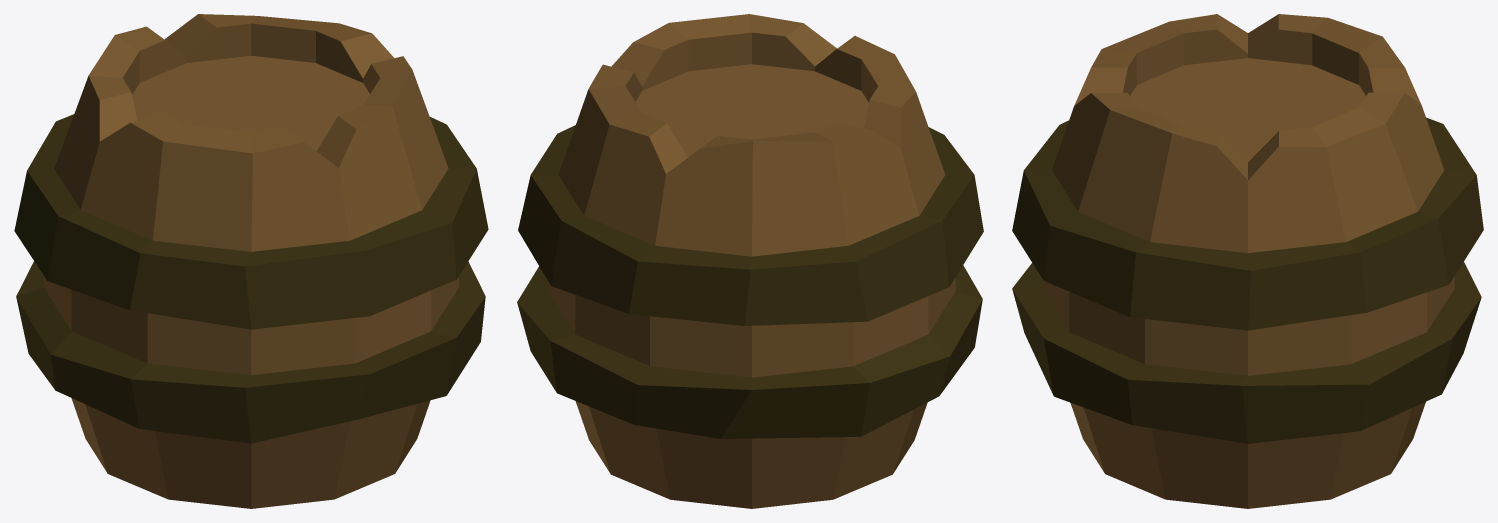
File: barel (1).fbx
The picture shows the model from 3 angles, left to right: view 1: azimuth 30°, elevation 25°; view 2: azimuth 150°, elevation 25°; view 3: azimuth 270°, elevation 25°; orthographic projection.
Parts seen in each view (by area): view 1: barrell; view 2: barrell; view 3: barrell.
Part boxes in pixels (bbox=[...]): barrell: bbox=[14, 14, 488, 508]; barrell: bbox=[517, 14, 983, 508]; barrell: bbox=[1012, 14, 1483, 508].
Size of the model in its own units: 142 by 123 by 143.
